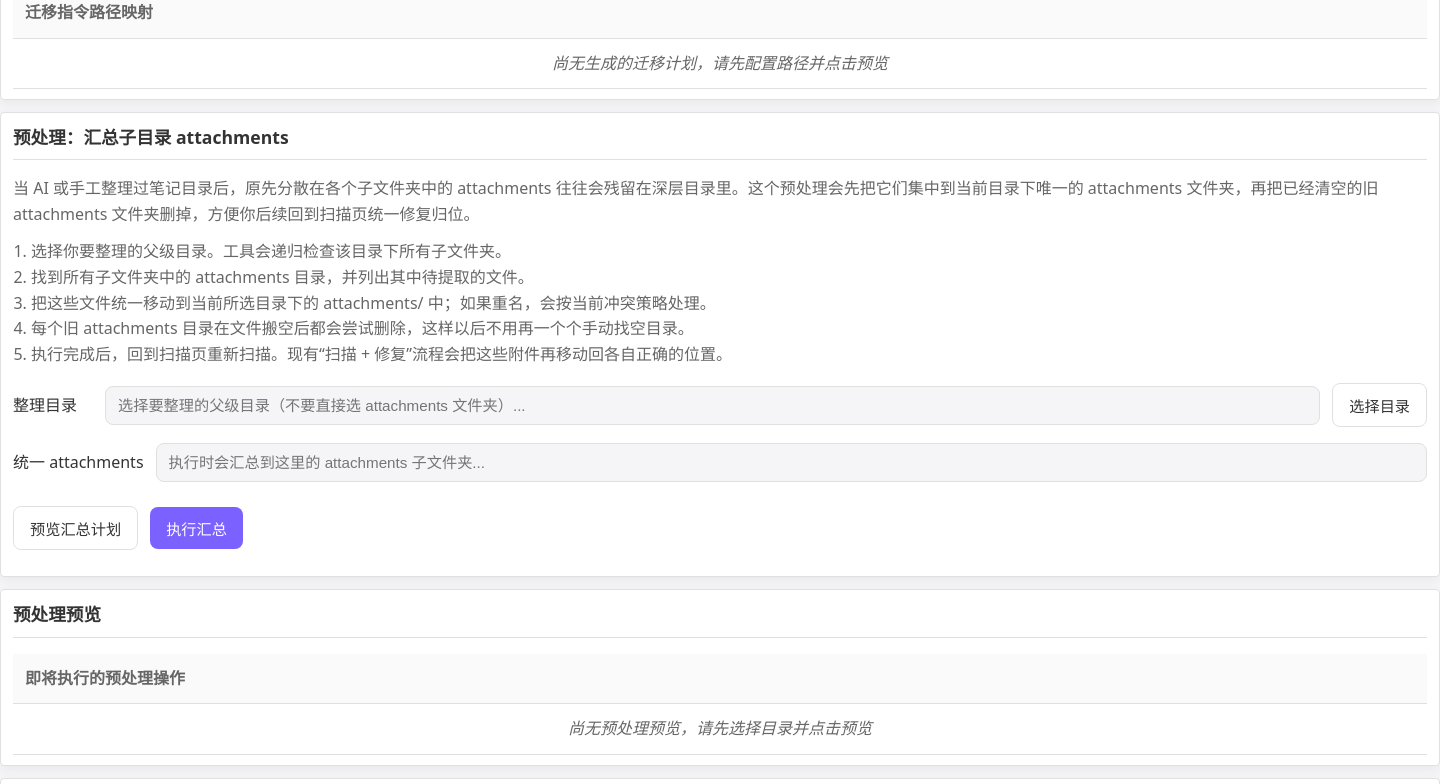
Test: flatten preview is invalidated after changing root folder
(page scrolled)
Type "D:/vault/topic" into the field labelled "整理目录" at (713, 405), box [105,386,1320,425]
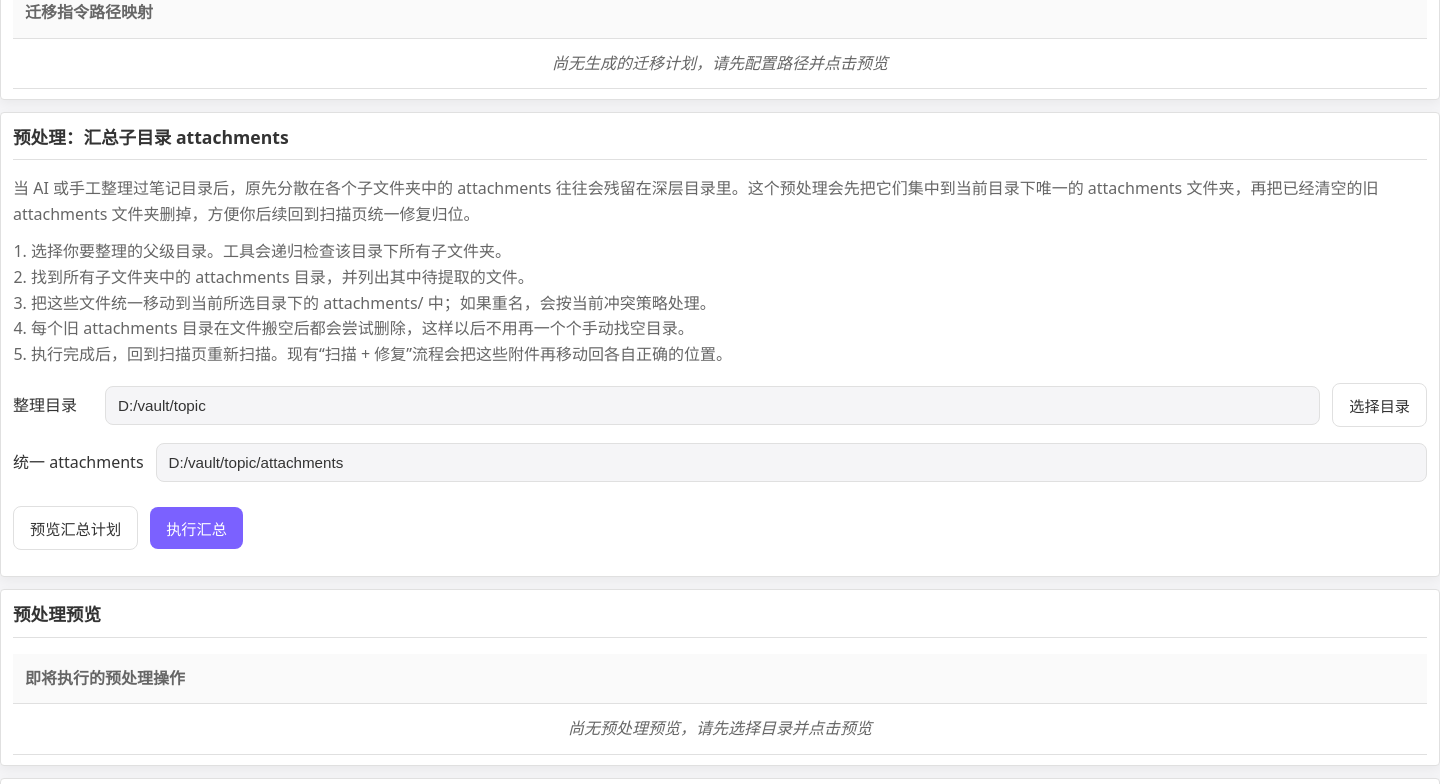
Click the button "预览汇总计划" at (76, 528), box [13,506,138,550]
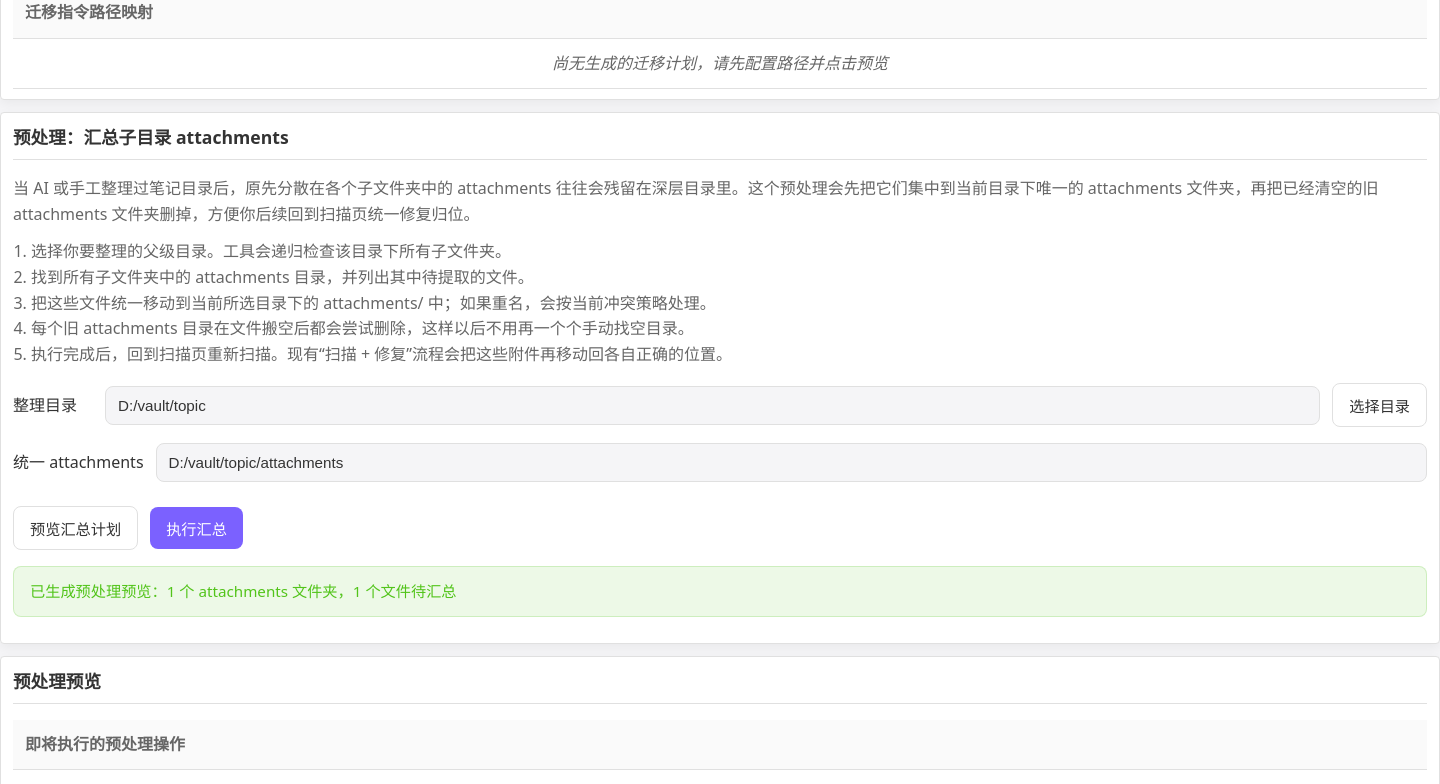
Replace the text in the field labelled "整理目录" with "D:/vault/other" at (713, 405), box [105,386,1320,425]
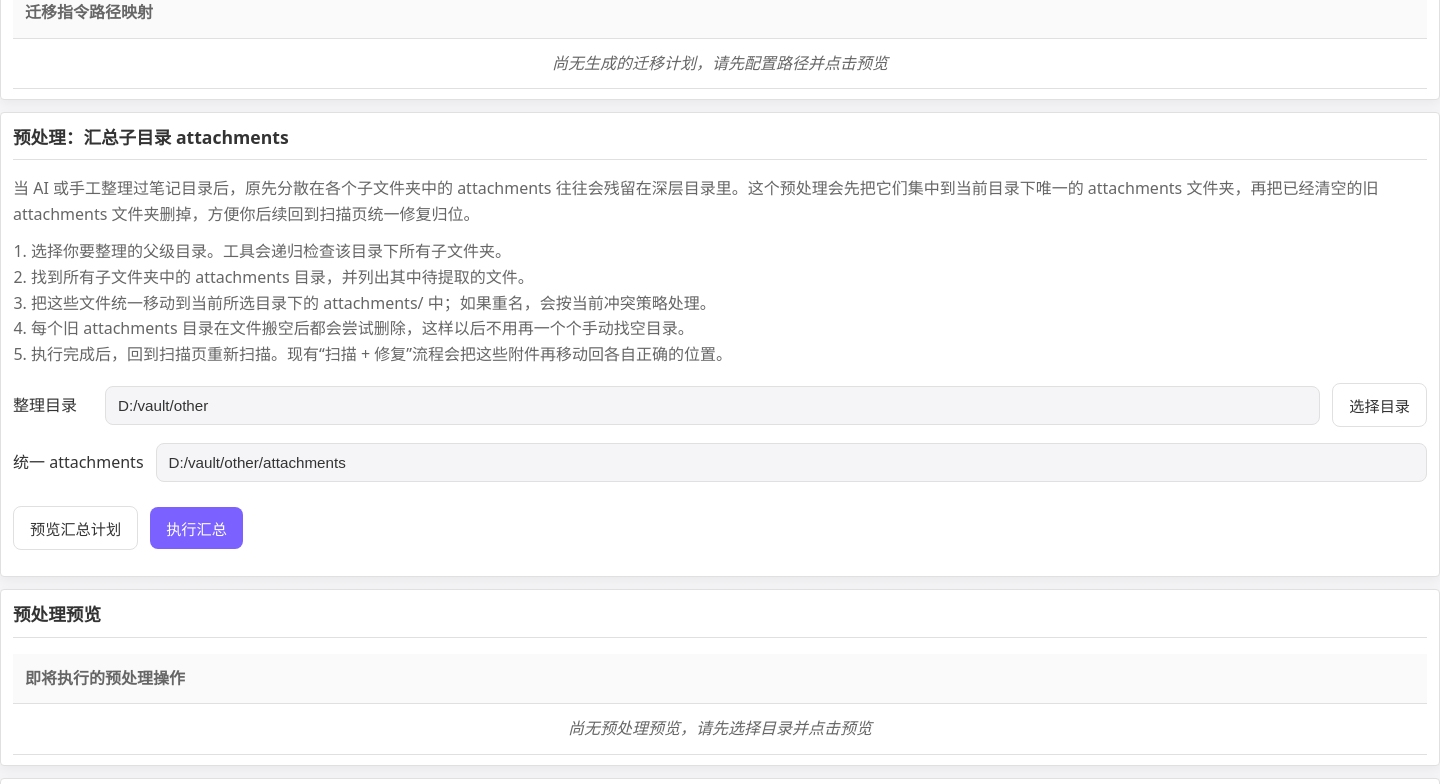
Click the button "执行汇总" at (196, 528), box [150,507,243,549]
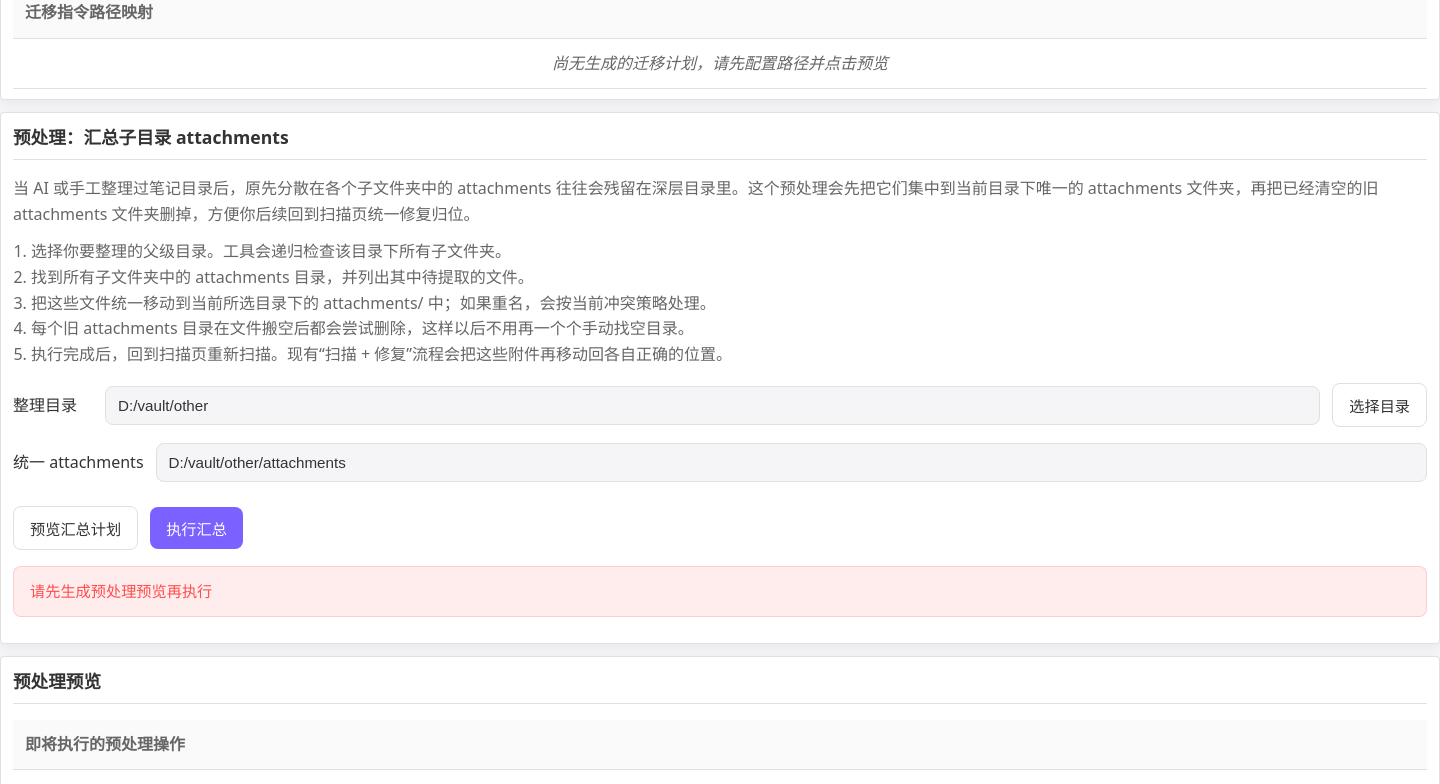
Result: the text "请先生成预处理预览再执行" is shown at [13,566,1427,617]
